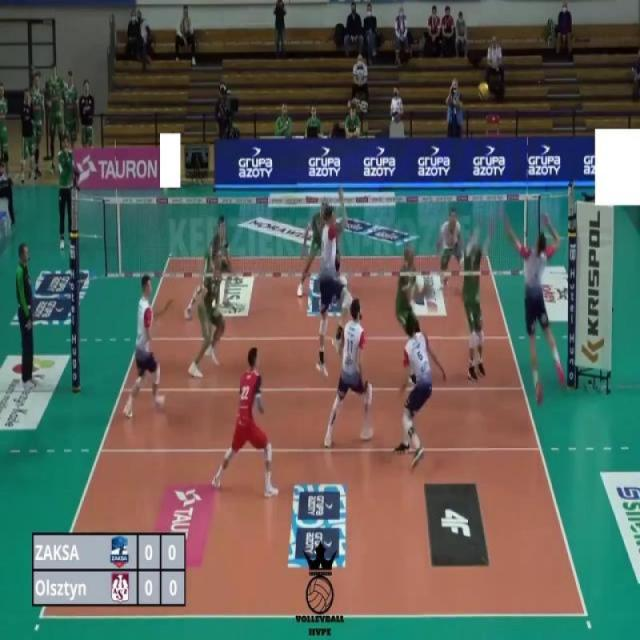volleyball: (477, 80, 490, 101)
